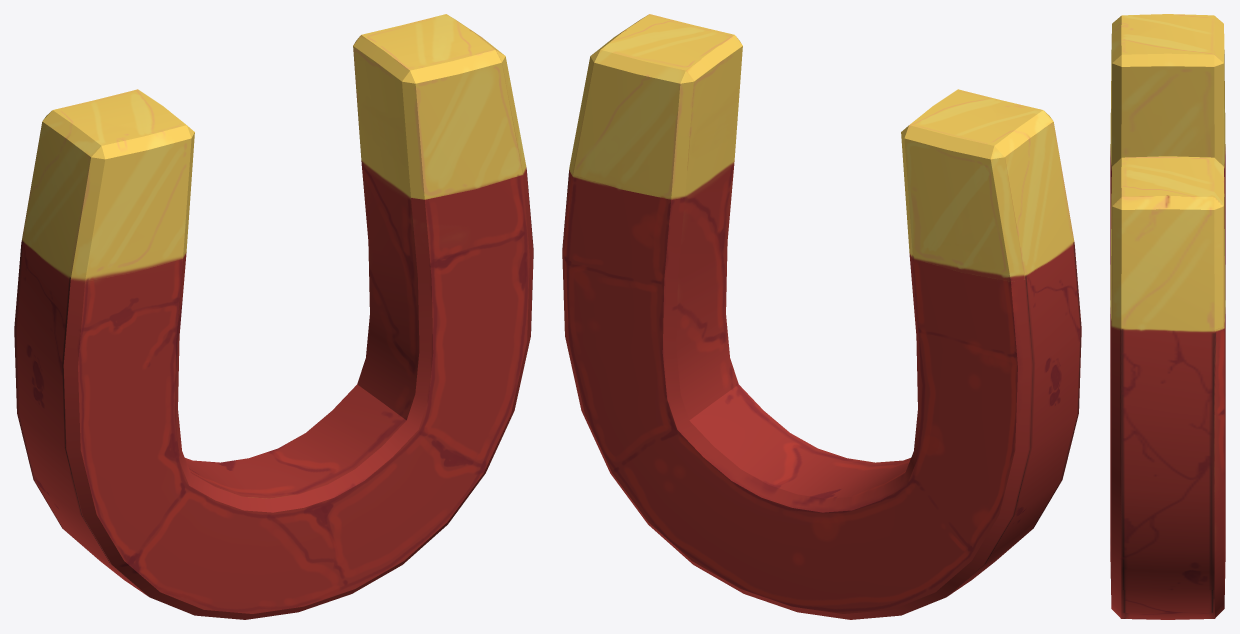
File: Mıknatıs.fbx
The picture shows the model from 3 angles, left to right: view 1: azimuth 30°, elevation 25°; view 2: azimuth 150°, elevation 25°; view 3: azimuth 270°, elevation 25°; orthographic projection. The views are drawn at different scales.
Visible parts, largest first — view 1: magnet; view 2: magnet; view 3: magnet.
Boxes of the visible parts, <box> form: magnet: <box>14,14,533,619</box>; magnet: <box>562,14,1081,619</box>; magnet: <box>1110,14,1225,619</box>.
Size of the model in its own units: 303 by 316 by 67.65.
Materials: 1 (1 with a texture image).
